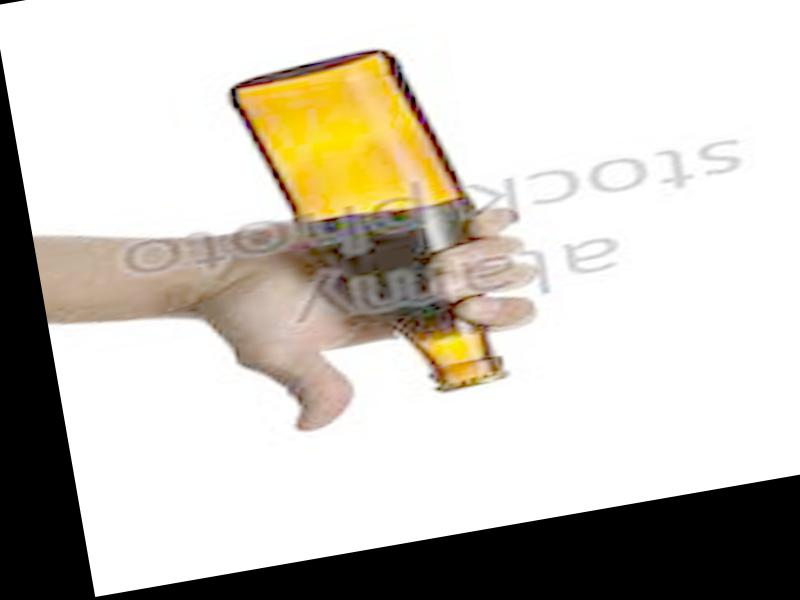Beer: (222, 37, 514, 416)
